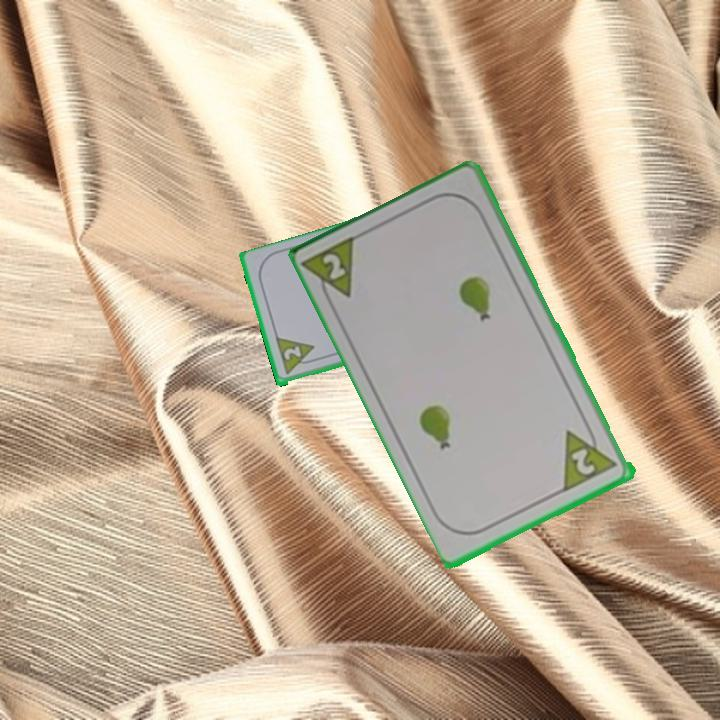2p: (301, 231, 362, 311), (560, 418, 621, 494), (272, 335, 320, 378)
